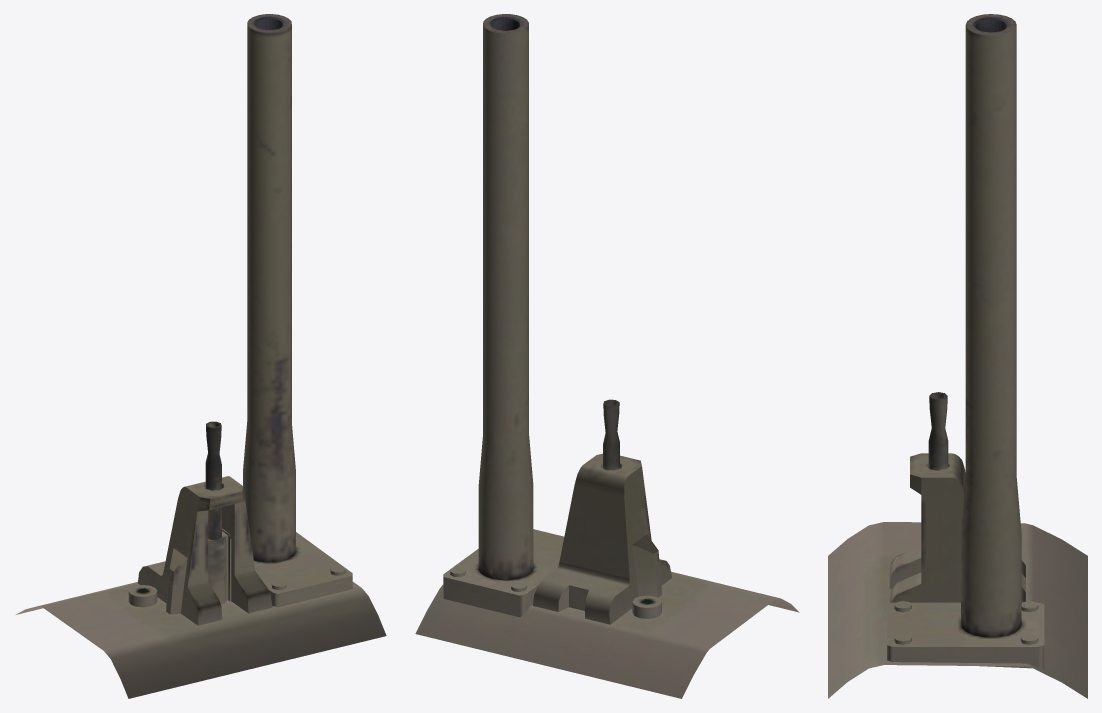
File: Gun_04.glb
The picture shows the model from 3 angles, left to right: view 1: azimuth 30°, elevation 25°; view 2: azimuth 150°, elevation 25°; view 3: azimuth 270°, elevation 25°; orthographic projection. The views are drawn at different scales.
Parts seen in each view (by area): view 1: set_0_group_0; view 2: set_0_group_0; view 3: set_0_group_0.
Boxes of the visible parts, left/top/right/bottom form: set_0_group_0: left=15, top=14, right=386, bottom=698; set_0_group_0: left=415, top=14, right=799, bottom=698; set_0_group_0: left=828, top=14, right=1087, bottom=698.
Bounding box in the file's own units: 0.6116 × 1.29 × 0.4689.
1 material, 1 textured.
